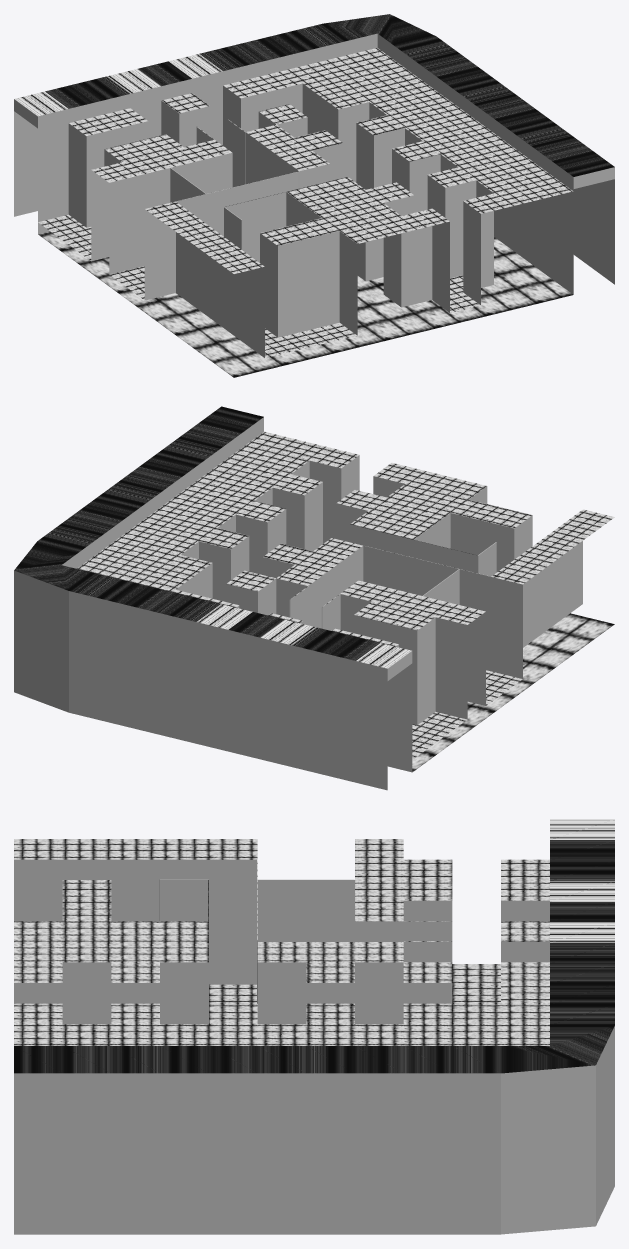
The model's file is hopital3 .fbx.
3 renders of one model, top to bottom at view 1: azimuth 30°, elevation 25°; view 2: azimuth 150°, elevation 25°; view 3: azimuth 270°, elevation 25°, orthographic. The views are drawn at different scales.
Parts seen in each view (by area): view 1: Cube.002; view 2: Cube.002; view 3: Cube.002.
Part boxes in pixels (box(x1,y1,x2,y2)): Cube.002: box(14, 14, 614, 377); Cube.002: box(14, 406, 614, 790); Cube.002: box(14, 819, 614, 1234).
Size of the model in its own units: 1049 by 310 by 1049.
